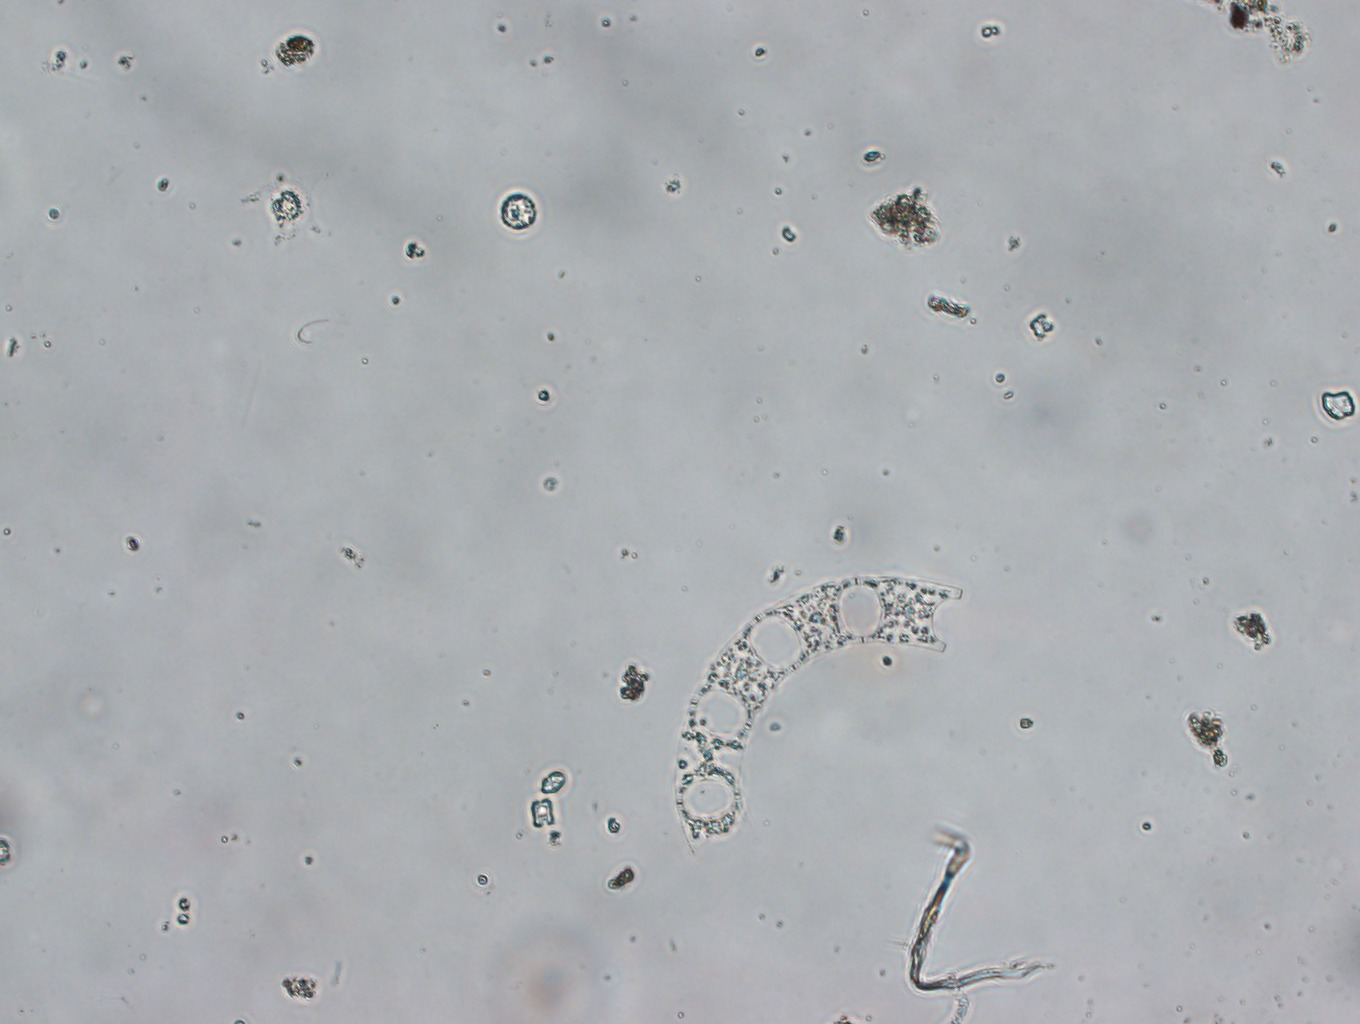eucampia: (671, 572, 1002, 853)
